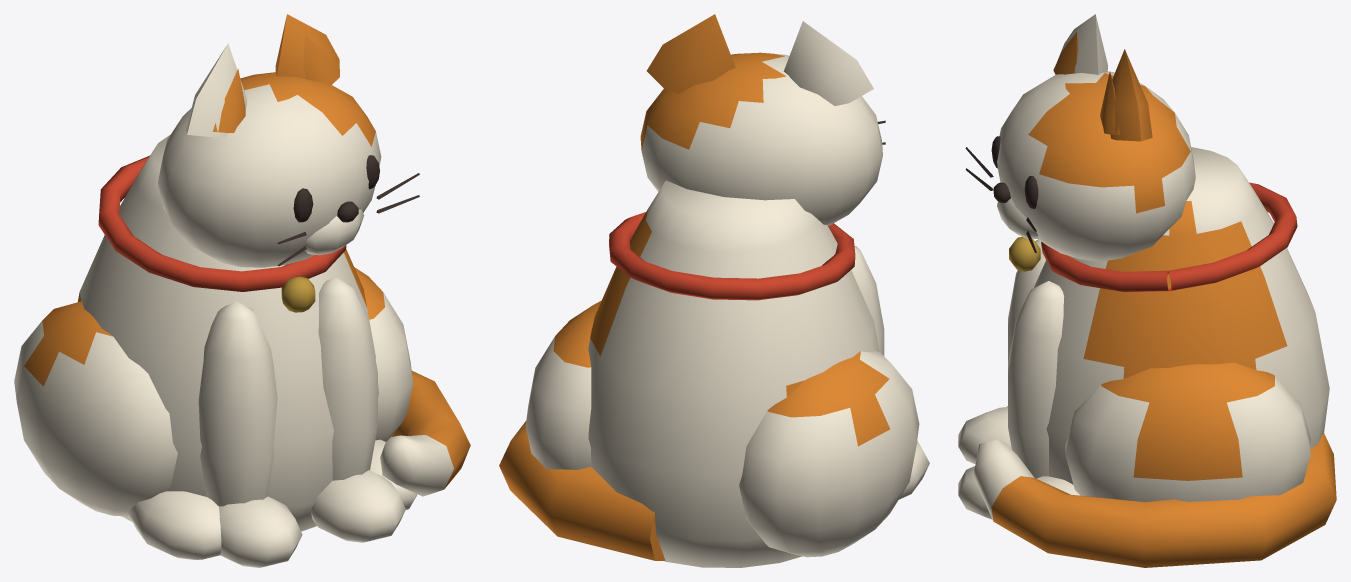
File: shrine_cat.glb
The picture shows the model from 3 angles, left to right: view 1: azimuth 30°, elevation 25°; view 2: azimuth 150°, elevation 25°; view 3: azimuth 270°, elevation 25°; orthographic projection. The views are drawn at different scales.
Parts seen in each view (by area): view 1: cat; view 2: cat; view 3: cat.
Boxes of the visible parts, x1,y1,x2,y2 form: cat: [14, 14, 470, 567]; cat: [499, 14, 929, 567]; cat: [958, 14, 1336, 567].
Size of what is drawn, in the model's own units: 0.3195 by 0.3829 by 0.2827.
